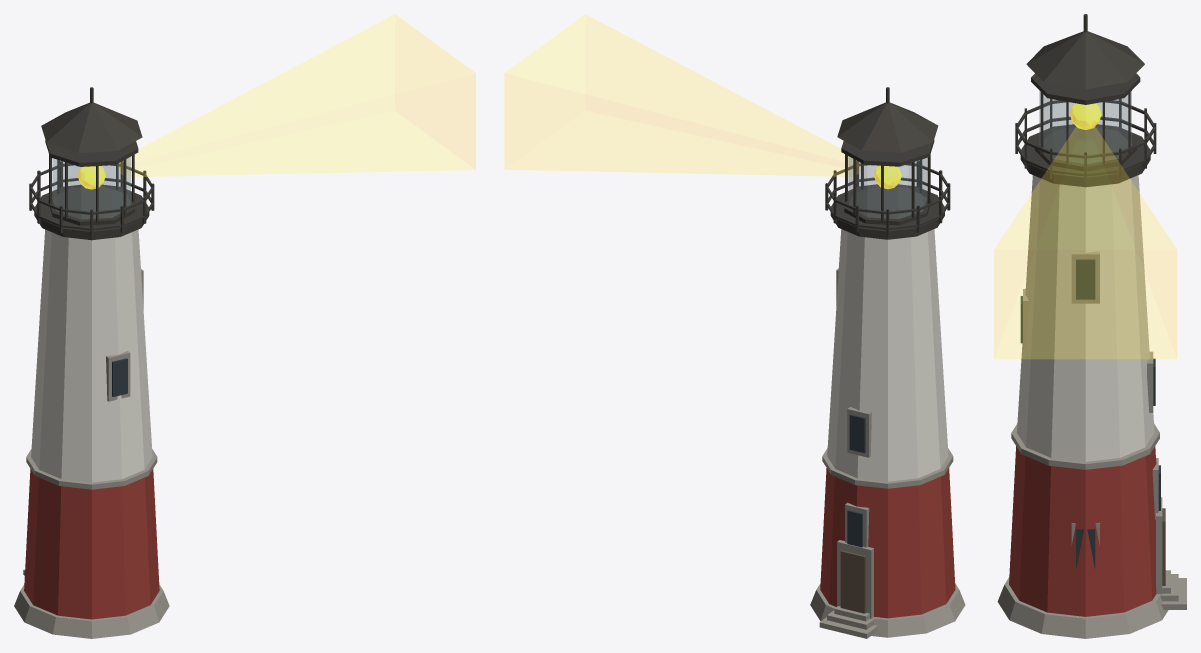
The model's file is El_Ultimo_Faro_LowPoly.glb.
3 views of the same model, side by side, from view 1: azimuth 30°, elevation 25°; view 2: azimuth 150°, elevation 25°; view 3: azimuth 270°, elevation 25° (orthographic). The views are drawn at different scales.
Visible parts, largest first — view 1: LightBeam, Tower_White_Upper, Tower_Red_Lower, Lantern_Roof, Lantern_Glass, Base_Footing, Lantern_Bottom_Ring, Lantern_Deck, Roof_Trim, Lower_Ledge; view 2: LightBeam, Tower_White_Upper, Tower_Red_Lower, Lantern_Roof, Lantern_Glass, Base_Footing, Lantern_Bottom_Ring, Lantern_Deck, Door, Roof_Trim, Lower_Ledge, Door_Frame; view 3: LightBeam, Tower_White_Upper, Tower_Red_Lower, Lantern_Roof, Lantern_Glass, Base_Footing, Lantern_Bottom_Ring, Lantern_Deck, Roof_Trim, Lower_Ledge, Window_Upper_Right, Window_Upper_Right_Frame (+9 smaller).
Part boxes in pixels (<box>): LightBeam: <box>119,14,475,176</box>; Tower_White_Upper: <box>31,229,152,482</box>; Tower_Red_Lower: <box>24,469,159,619</box>; Lantern_Roof: <box>41,102,142,152</box>; Lantern_Glass: <box>52,157,130,219</box>; Base_Footing: <box>14,584,169,638</box>; Lantern_Bottom_Ring: <box>48,185,135,225</box>; Lantern_Deck: <box>34,184,149,240</box>; Roof_Trim: <box>45,140,138,166</box>; Lower_Ledge: <box>26,449,157,489</box>; LightBeam: <box>504,14,860,176</box>; Tower_White_Upper: <box>827,229,948,481</box>; Tower_Red_Lower: <box>820,468,955,618</box>; Lantern_Roof: <box>837,102,938,152</box>; Lantern_Glass: <box>848,156,926,218</box>; Base_Footing: <box>810,583,965,637</box>; Lantern_Bottom_Ring: <box>844,184,931,225</box>; Lantern_Deck: <box>830,184,944,239</box>; Door: <box>840,550,866,613</box>; Roof_Trim: <box>841,140,934,166</box>; Lower_Ledge: <box>822,448,953,488</box>; Door_Frame: <box>837,540,873,618</box>; LightBeam: <box>994,124,1176,358</box>; Tower_White_Upper: <box>1017,175,1154,461</box>; Tower_Red_Lower: <box>1009,446,1156,616</box>; Lantern_Roof: <box>1026,31,1144,89</box>; Lantern_Glass: <box>1039,91,1131,163</box>; Base_Footing: <box>997,577,1168,638</box>; Lantern_Bottom_Ring: <box>1034,126,1136,171</box>; Lantern_Deck: <box>1020,124,1150,187</box>; Roof_Trim: <box>1031,73,1140,104</box>; Lower_Ledge: <box>1011,423,1159,469</box>; Window_Upper_Right: <box>1076,259,1095,299</box>; Window_Upper_Right_Frame: <box>1071,251,1099,303</box>.
Size of the model in its own units: 15.55 by 18.73 by 5.58.
